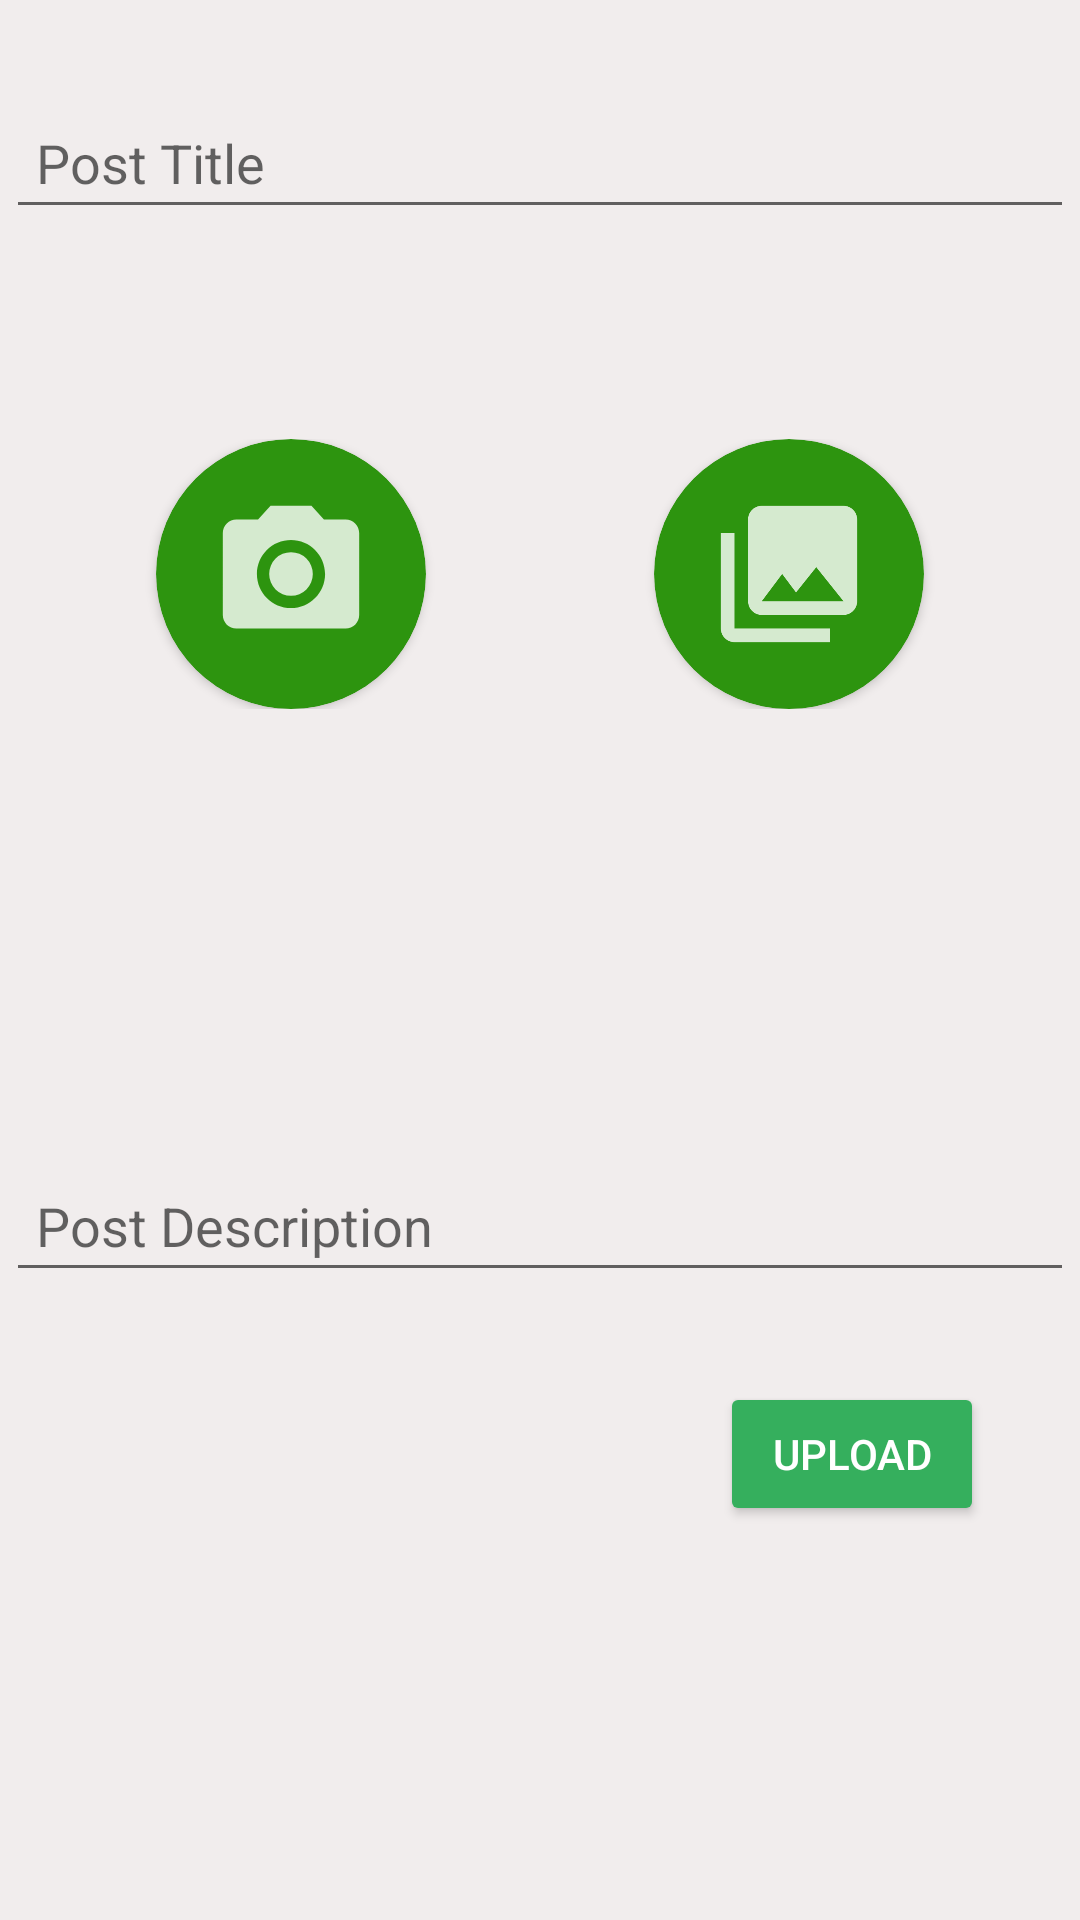

Named icons in this screenshot (1080x1920) and their bounding boxes, region(x1, y1, x2, y2):
camera: region(222, 505, 360, 629)
library: region(721, 505, 857, 643)
